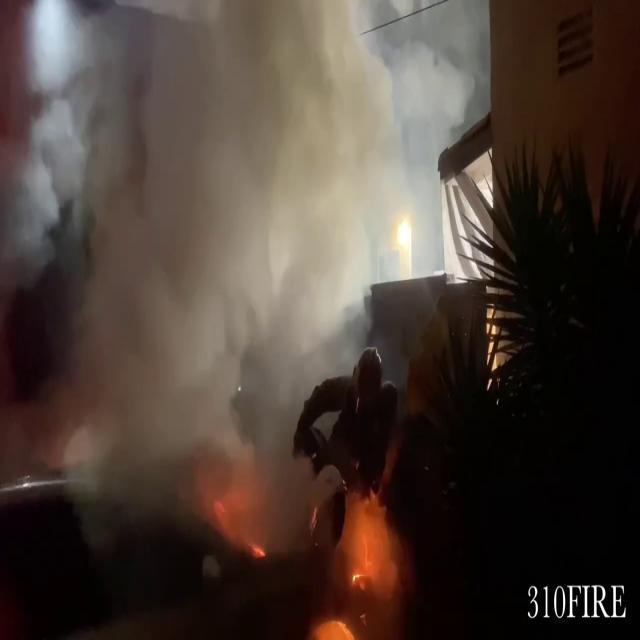Smoke: (0, 1, 403, 564)
